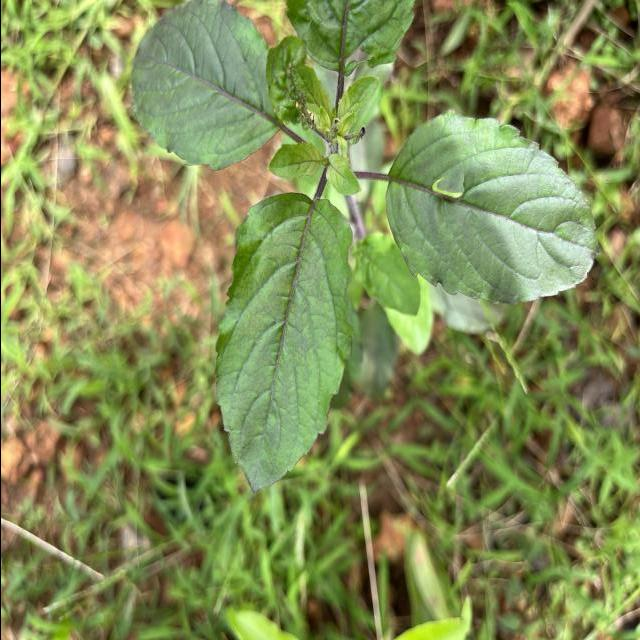Ocimum tenuiflorum: (208, 187, 360, 498), (380, 103, 602, 311)
